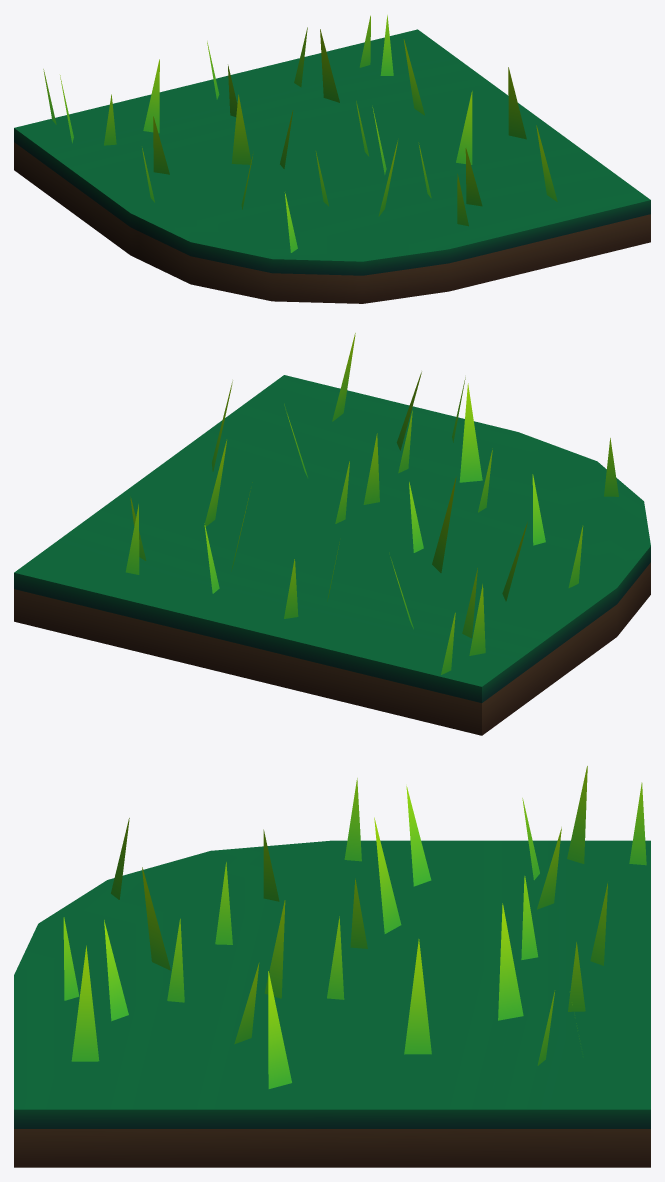
Rendered from Grass_Patch_1B.fbx.
3 renders of one model, top to bottom at view 1: azimuth 30°, elevation 25°; view 2: azimuth 150°, elevation 25°; view 3: azimuth 270°, elevation 25°, orthographic. The views are drawn at different scales.
Parts seen in each view (by area): view 1: Grass_Patch_1B; view 2: Grass_Patch_1B; view 3: Grass_Patch_1B.
Boxes of the visible parts, x1,y1,x2,y2 form: Grass_Patch_1B: (14, 15, 650, 303); Grass_Patch_1B: (14, 333, 650, 735); Grass_Patch_1B: (14, 766, 650, 1167).
Bounding box in the file's own units: 4 × 1.14 × 4.
